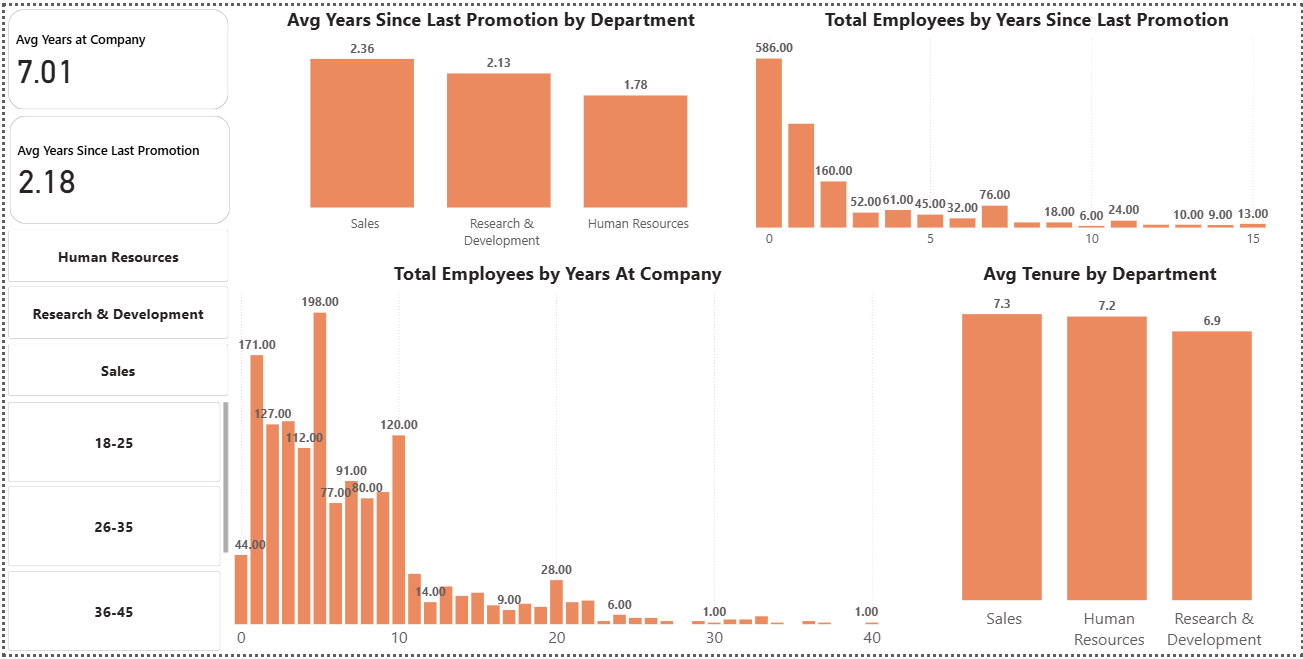

The page's visual inventory and layout, read from the dashboard file:
{"tool":"powerbi","page":{"name":"Tenure, Experience & Career Progression","canvas":[2160,1080],"ordinal":3},"visuals":[{"type":"cardVisual","fields":{"Data":["HR_Analytics.Avg Years Company"]},"box":[0,0,377.5,177.5],"z":0},{"type":"cardVisual","fields":{"Data":["HR_Analytics.Avg Years Since Last Promotion"]},"box":[2.5,177.5,377.5,190],"z":1000},{"type":"columnChart","fields":{"Category":["HR_Analytics.Years Since Last Promotion"],"Y":["HR_Analytics.Total Employees"]},"box":[1244,0,916,412],"z":2000},{"type":"columnChart","fields":{"Category":["HR_Analytics.Years At Company"],"Y":["HR_Analytics.Total Employees"]},"box":[377.5,422.5,1087.5,657.5],"z":3000},{"type":"columnChart","fields":{"Y":["HR_Analytics.Avg Tenure"],"Category":["HR_Analytics.Department"]},"box":[1490,422.5,670,657.5],"z":4000},{"type":"columnChart","fields":{"Category":["HR_Analytics.Department"],"Y":["HR_Analytics.Avg Years Since Last Promotion"]},"box":[377.5,0,865,412.5],"z":5000},{"type":"advancedSlicerVisual","fields":{"Values":["HR_Analytics.AgeGroup"]},"box":[0,655,377.5,425],"z":5001},{"type":"advancedSlicerVisual","fields":{"Values":["HR_Analytics.Department"]},"box":[0,367.5,377.5,287.5],"z":5002}]}

Visuals, with their boxes in screenshot pixels (x1, y1, x2, y2), scaled from the page's 2160x1080 canvas onto the 1303x659 screenshot:
cardVisual - HR_Analytics.Avg Years Company: <box>0,0,228,108</box>
cardVisual - HR_Analytics.Avg Years Since Last Promotion: <box>2,108,229,224</box>
columnChart - HR_Analytics.Years Since Last Promotion x HR_Analytics.Total Employees: <box>750,0,1302,251</box>
columnChart - HR_Analytics.Years At Company x HR_Analytics.Total Employees: <box>228,258,884,658</box>
columnChart - HR_Analytics.Avg Tenure x HR_Analytics.Department: <box>899,258,1302,658</box>
columnChart - HR_Analytics.Department x HR_Analytics.Avg Years Since Last Promotion: <box>228,0,750,252</box>
advancedSlicerVisual - HR_Analytics.AgeGroup: <box>0,400,228,658</box>
advancedSlicerVisual - HR_Analytics.Department: <box>0,224,228,400</box>
